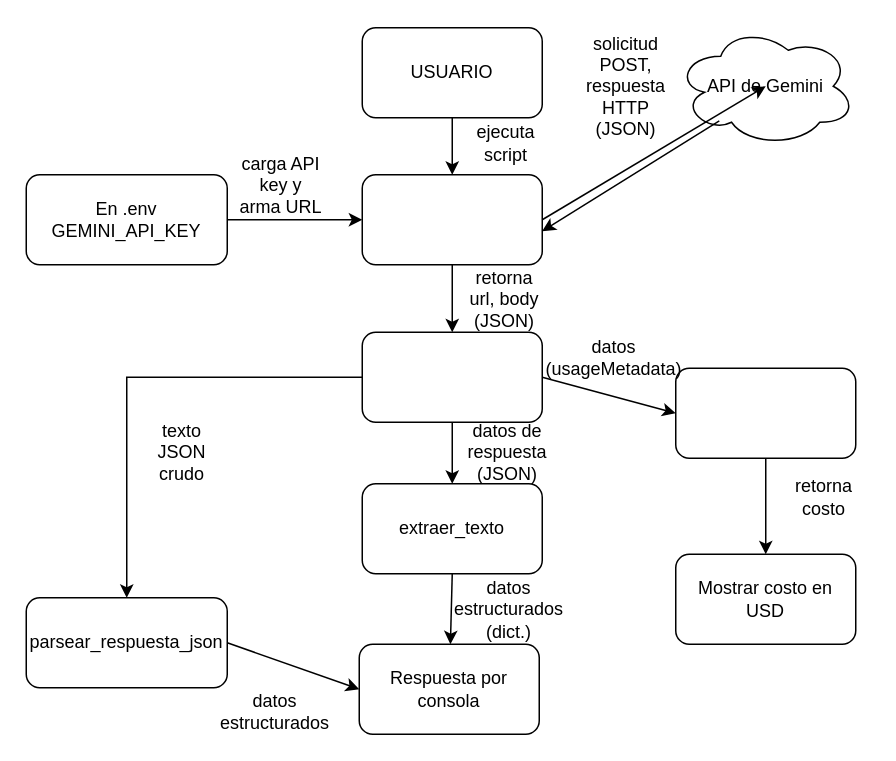
This 896x761 diagram has some shape labels left out. Here are the shapes that lost their labels. From the top down, the centre of each, then its label:
At point (451, 219): "armar_peticion".
At point (451, 376): "enviar_peticion".
At point (765, 412): "calcular_costo".
